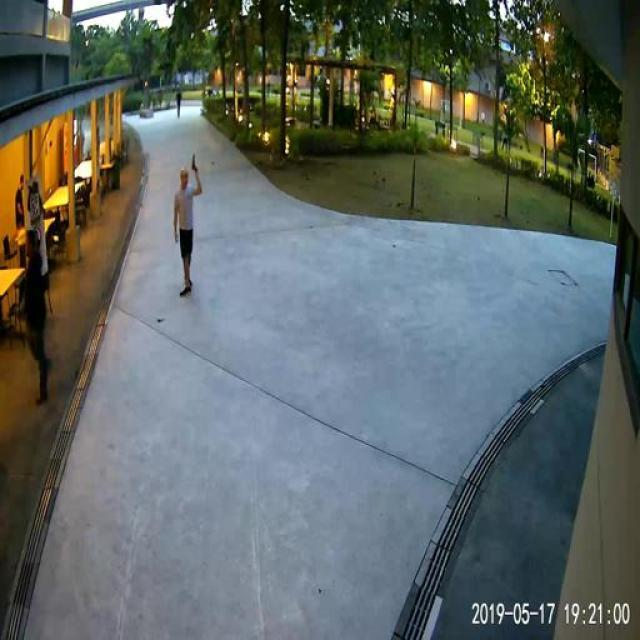Gun: (187, 150, 211, 178)
